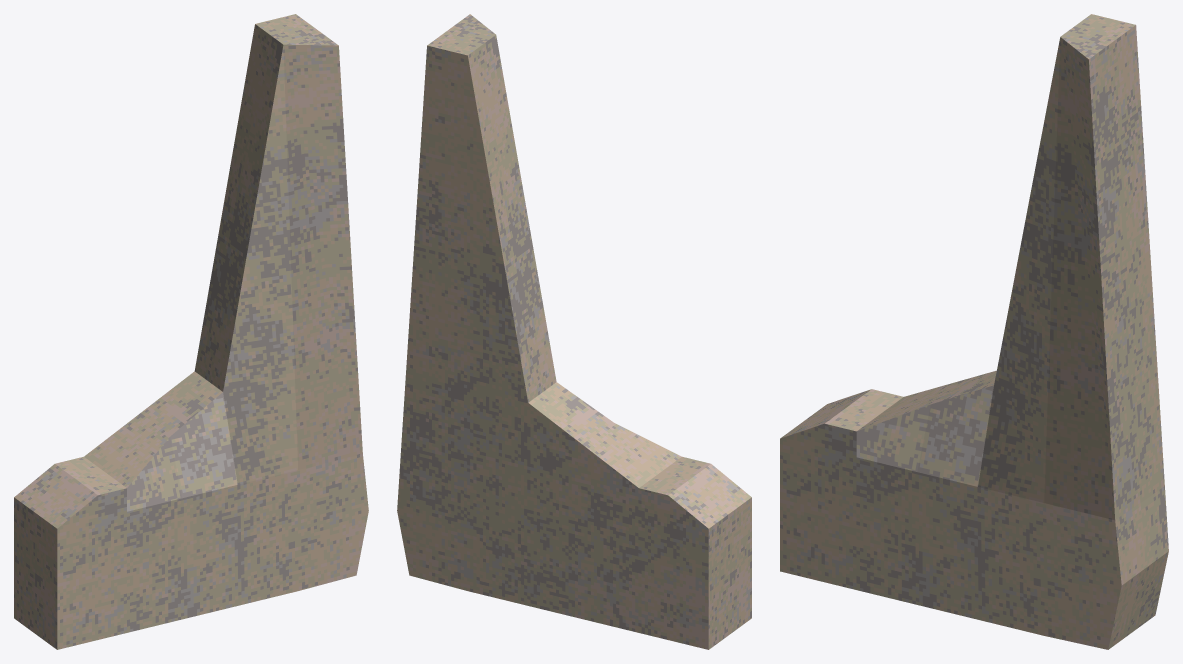
Rendered from Rock3.fbx.
3 views of the same model, side by side, from view 1: azimuth 30°, elevation 25°; view 2: azimuth 150°, elevation 25°; view 3: azimuth 330°, elevation 25° (orthographic). The views are drawn at different scales.
Parts seen in each view (by area): view 1: Plane.009; view 2: Plane.009; view 3: Plane.009.
Part boxes in pixels (bbox=[...]): Plane.009: bbox=[14, 14, 368, 649]; Plane.009: bbox=[397, 14, 751, 649]; Plane.009: bbox=[780, 14, 1168, 649].
Size of the model in its own units: 136 by 223 by 32.47.
